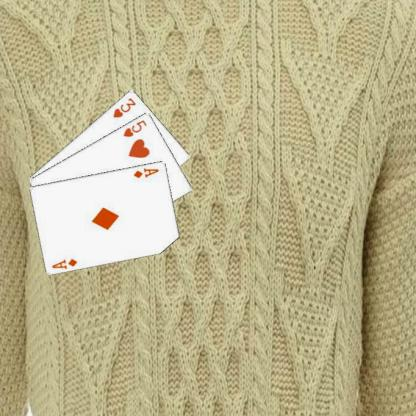3H: (110, 94, 138, 119)
5H: (121, 117, 148, 139)
AD: (49, 256, 79, 270), (131, 164, 160, 178)
